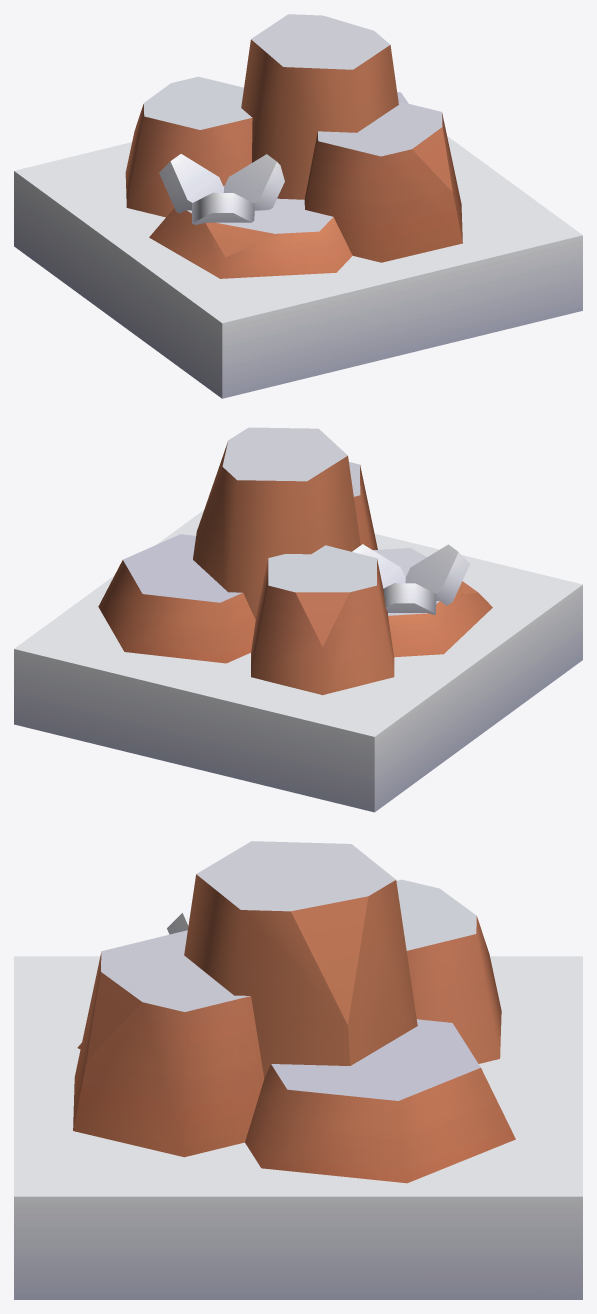
The model's file is kenney-tower-defense-snow-tile-rock.glb.
3 views of the same model, one above another, from view 1: azimuth 30°, elevation 25°; view 2: azimuth 150°, elevation 25°; view 3: azimuth 270°, elevation 25° (orthographic). The views are drawn at different scales.
Parts seen in each view (by area): view 1: snow-tile-rock; view 2: snow-tile-rock; view 3: snow-tile-rock.
Boxes of the visible parts, x1,y1,x2,y2 form: snow-tile-rock: [14, 14, 582, 398]; snow-tile-rock: [14, 427, 582, 812]; snow-tile-rock: [14, 841, 582, 1299].
Size of the model in its own units: 1 by 0.6146 by 1.
1 material, 1 textured.
